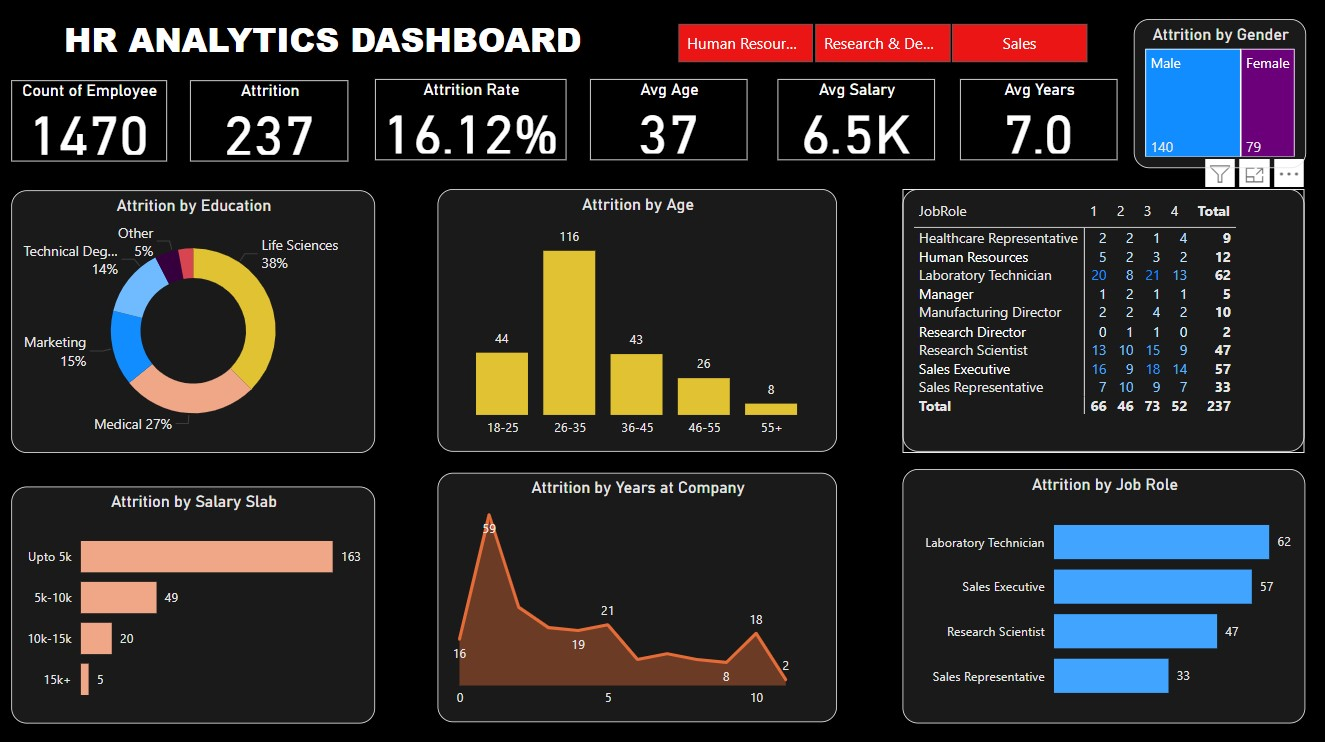

This screenshot's page, from the dashboard's own definition file:
{"tool":"powerbi","page":{"name":"Page 1","canvas":[1280,720],"ordinal":0},"visuals":[{"type":"card","title":"Count of Employee","fields":{"Values":["CountNonNull(HR_Analytics.EmpID)"]},"box":[11.1,78,150,78],"z":0},{"type":"card","title":"Attrition","fields":{"Values":["Sum(HR_Analytics.AttritionCount)"]},"box":[183.8,78.4,153.2,78],"z":1000},{"type":"card","title":"Attrition Rate","fields":{"Values":["HR_Analytics.AttritionRate"]},"box":[362.3,77.2,184.5,78],"z":2000},{"type":"card","title":"Avg Age","fields":{"Values":["Avg(HR_Analytics.Age)"]},"box":[569.7,77.2,152,78],"z":3000},{"type":"card","title":"Avg Salary","fields":{"Values":["Avg(HR_Analytics.MonthlyIncome)"]},"box":[750.6,77.2,152,78],"z":4000},{"type":"card","title":"Avg Years","fields":{"Values":["Avg(HR_Analytics.YearsAtCompany)"]},"box":[926.7,77.2,152,78],"z":5000},{"type":"donutChart","title":"Attrition by Education","fields":{"Category":["HR_Analytics.EducationField"],"Y":["Sum(HR_Analytics.AttritionCount)"]},"box":[10.9,184.5,351,253.3],"z":6000},{"type":"columnChart","title":"Attrition by Age","fields":{"Category":["HR_Analytics.AgeGroup","HR_Analytics.EducationField"],"Y":["Sum(HR_Analytics.AttritionCount)"]},"box":[422.6,183.9,385.6,253.9],"z":7000},{"type":"pivotTable","fields":{"Rows":["HR_Analytics.JobRole"],"Columns":["HR_Analytics.JobSatisfaction"],"Values":["Sum(HR_Analytics.AttritionCount)"]},"box":[871.4,183.9,388.3,253.9],"z":8000},{"type":"barChart","title":"Attrition by Salary Slab","fields":{"Category":["HR_Analytics.SalarySlab"],"Y":["Sum(HR_Analytics.AttritionCount)"]},"box":[10.9,470.4,351,229.1],"z":9000},{"type":"barChart","title":"Attrition by Job Role","fields":{"Category":["HR_Analytics.JobRole"],"Y":["Sum(HR_Analytics.AttritionCount)"]},"box":[871.1,453.3,388.9,245.6],"z":10000},{"type":"areaChart","title":"Attrition by Years at Company","fields":{"Category":["HR_Analytics.YearsAtCompany"],"Y":["Sum(HR_Analytics.AttritionCount)"]},"box":[422.2,457.8,385.6,241.1],"z":11000},{"type":"treemap","title":"Attrition by Gender","fields":{"Group":["HR_Analytics.Gender"],"Values":["Sum(HR_Analytics.AttritionCount)"]},"box":[1093.7,19.2,166,144.1],"z":12000},{"type":"slicer","fields":{"Values":["HR_Analytics.Department"]},"box":[628.5,16.5,444.6,50.8],"z":13000},{"type":"textbox","box":[56.3,11,546.1,56.3],"z":14000}]}

Visuals, with their boxes in screenshot pixels (x1, y1, x2, y2), scaled from the page's 1280x720 canvas onto the 1325x742 screenshot:
"Count of Employee" card: {"x1": 11, "y1": 80, "x2": 167, "y2": 161}
"Attrition" card: {"x1": 190, "y1": 81, "x2": 349, "y2": 161}
"Attrition Rate" card: {"x1": 375, "y1": 80, "x2": 566, "y2": 160}
"Avg Age" card: {"x1": 590, "y1": 80, "x2": 747, "y2": 160}
"Avg Salary" card: {"x1": 777, "y1": 80, "x2": 934, "y2": 160}
"Avg Years" card: {"x1": 959, "y1": 80, "x2": 1117, "y2": 160}
"Attrition by Education" donutChart: {"x1": 11, "y1": 190, "x2": 375, "y2": 451}
"Attrition by Age" columnChart: {"x1": 437, "y1": 190, "x2": 837, "y2": 451}
pivotTable - HR_Analytics.JobRole x HR_Analytics.JobSatisfaction: {"x1": 902, "y1": 190, "x2": 1304, "y2": 451}
"Attrition by Salary Slab" barChart: {"x1": 11, "y1": 485, "x2": 375, "y2": 721}
"Attrition by Job Role" barChart: {"x1": 902, "y1": 467, "x2": 1304, "y2": 720}
"Attrition by Years at Company" areaChart: {"x1": 437, "y1": 472, "x2": 836, "y2": 720}
"Attrition by Gender" treemap: {"x1": 1132, "y1": 20, "x2": 1304, "y2": 168}
slicer - HR_Analytics.Department: {"x1": 651, "y1": 17, "x2": 1111, "y2": 69}
textbox: {"x1": 58, "y1": 11, "x2": 624, "y2": 69}
